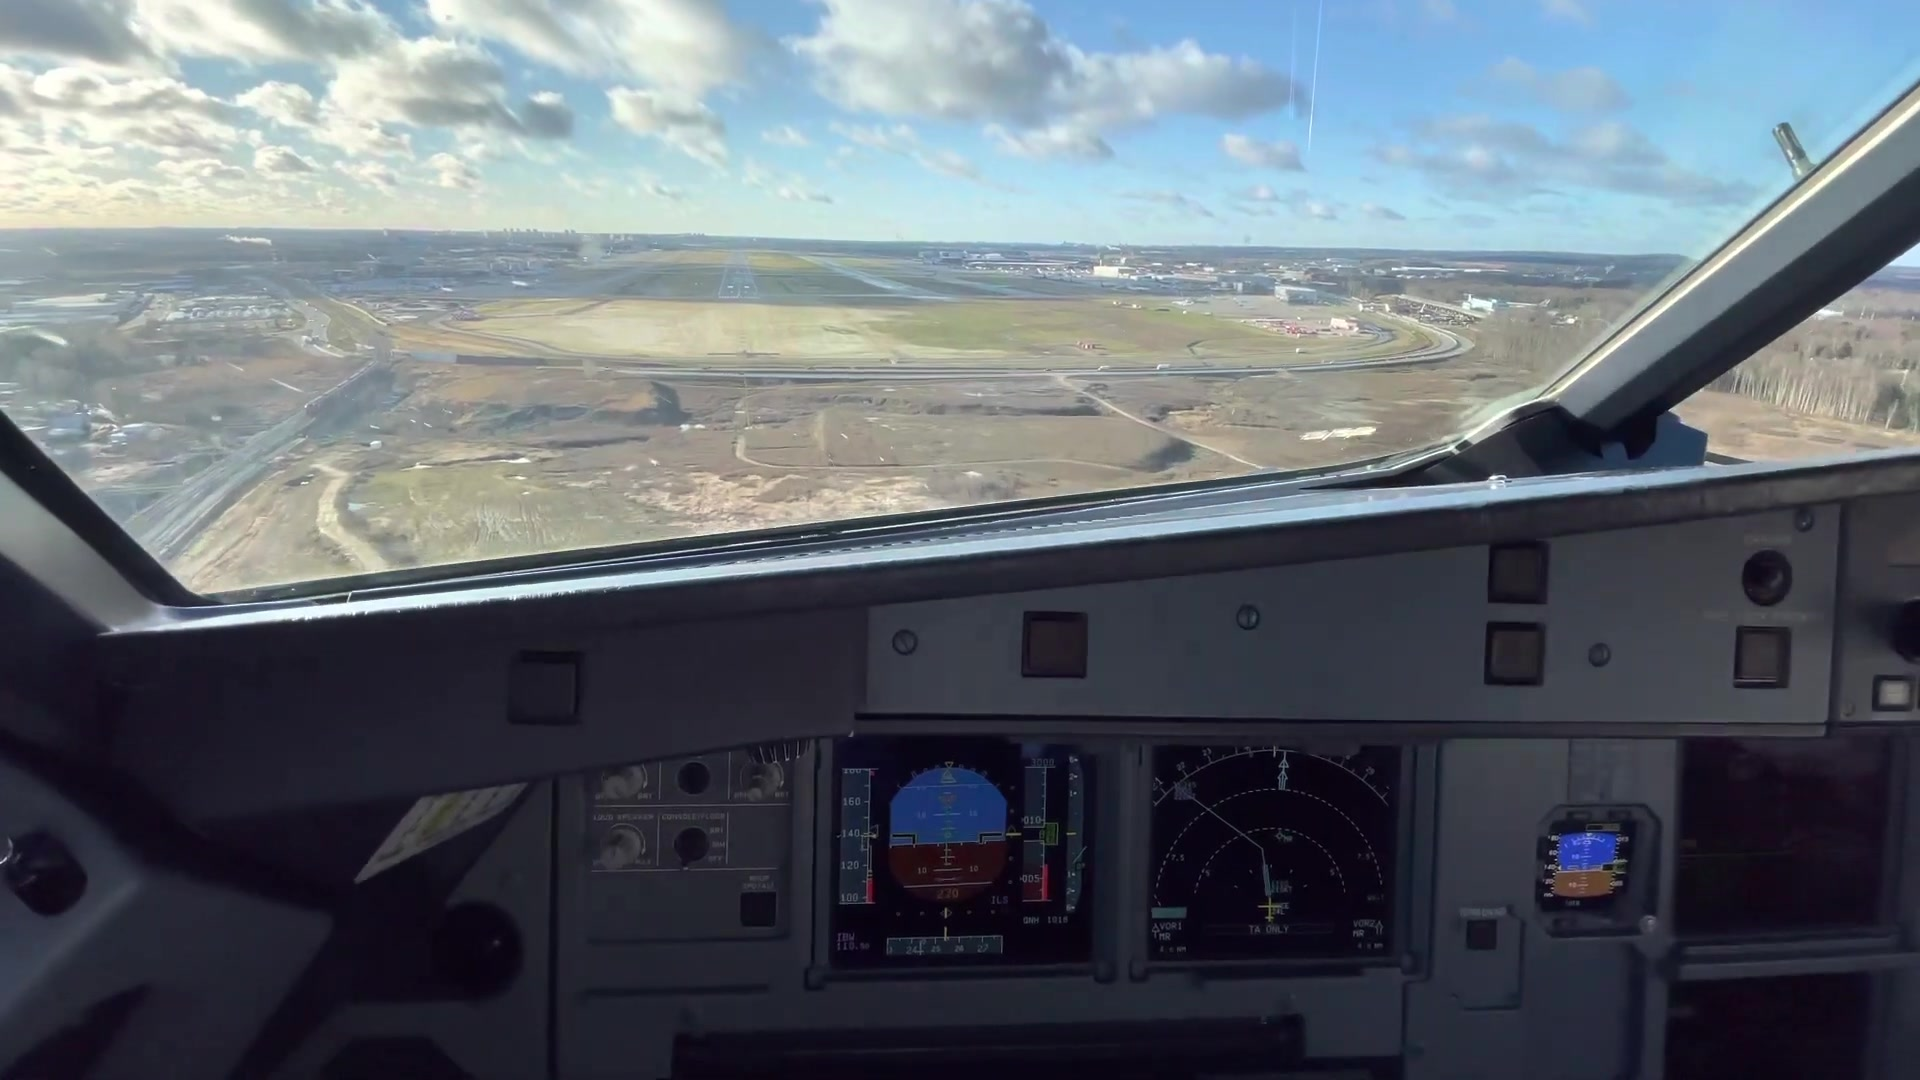runway: (713, 247, 767, 302)
